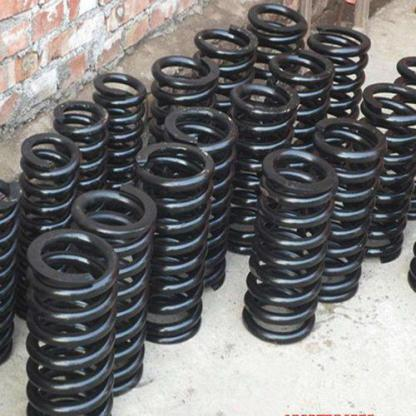FOD: (238, 149, 342, 346), (26, 222, 118, 415), (132, 138, 216, 346), (307, 116, 387, 308), (17, 134, 80, 306), (90, 69, 148, 188), (52, 96, 114, 197)
